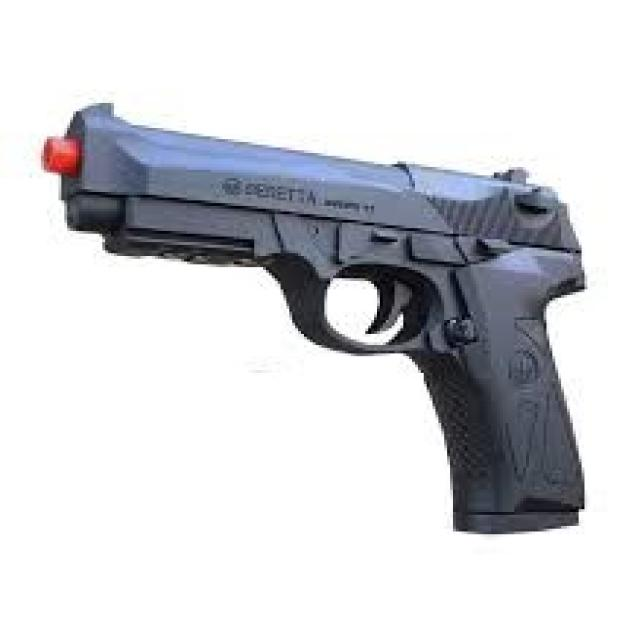pistol: (35, 104, 603, 535)
